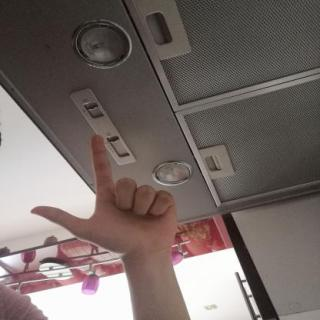LAAM: (25, 128, 187, 264)
